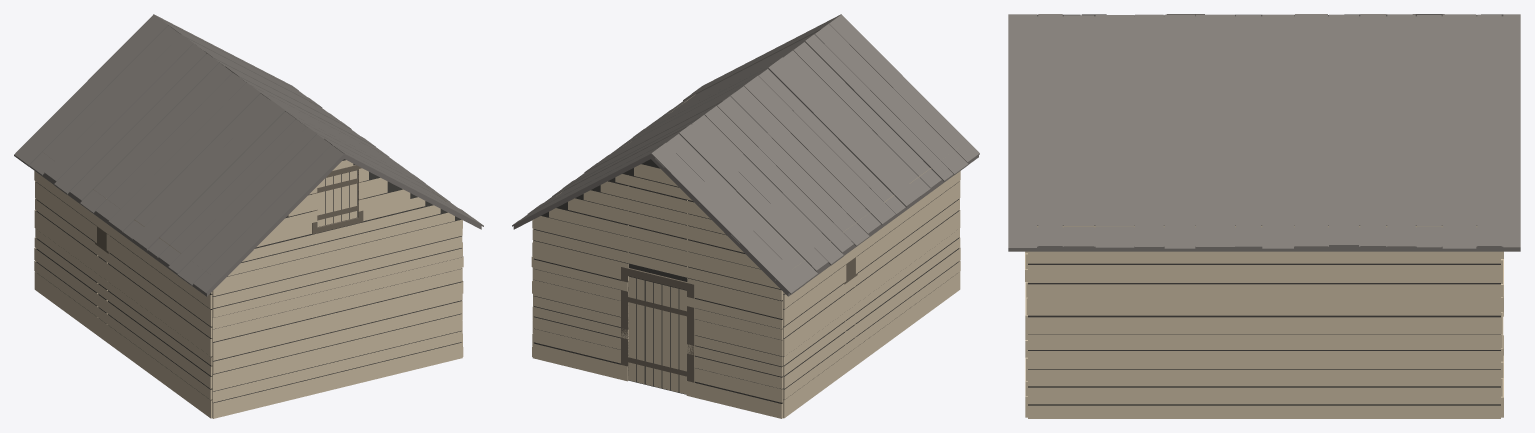
Rendered from recon_1835_north_a1_050__inferred_1835.glb.
The picture shows the model from 3 angles, left to right: view 1: azimuth 30°, elevation 25°; view 2: azimuth 150°, elevation 25°; view 3: azimuth 270°, elevation 25°; orthographic projection. The views are drawn at different scales.
Visible parts, largest first — view 1: recon_1835_north_a1_050__inferred_1835; view 2: recon_1835_north_a1_050__inferred_1835; view 3: recon_1835_north_a1_050__inferred_1835.
Boxes of the visible parts, bbox=[...] form: recon_1835_north_a1_050__inferred_1835: bbox=[14, 14, 483, 418]; recon_1835_north_a1_050__inferred_1835: bbox=[512, 14, 979, 418]; recon_1835_north_a1_050__inferred_1835: bbox=[1008, 14, 1520, 418].
Size of the model in its own units: 6.38 by 5.23 by 7.55.
